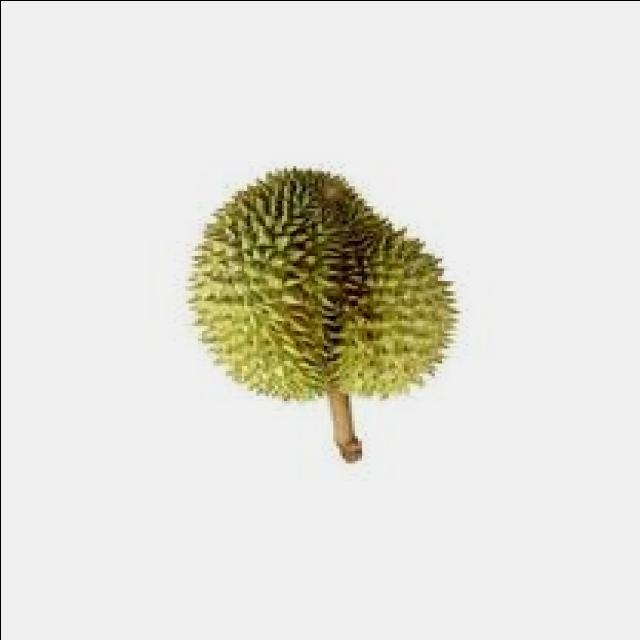agrume: (179, 158, 477, 418)
